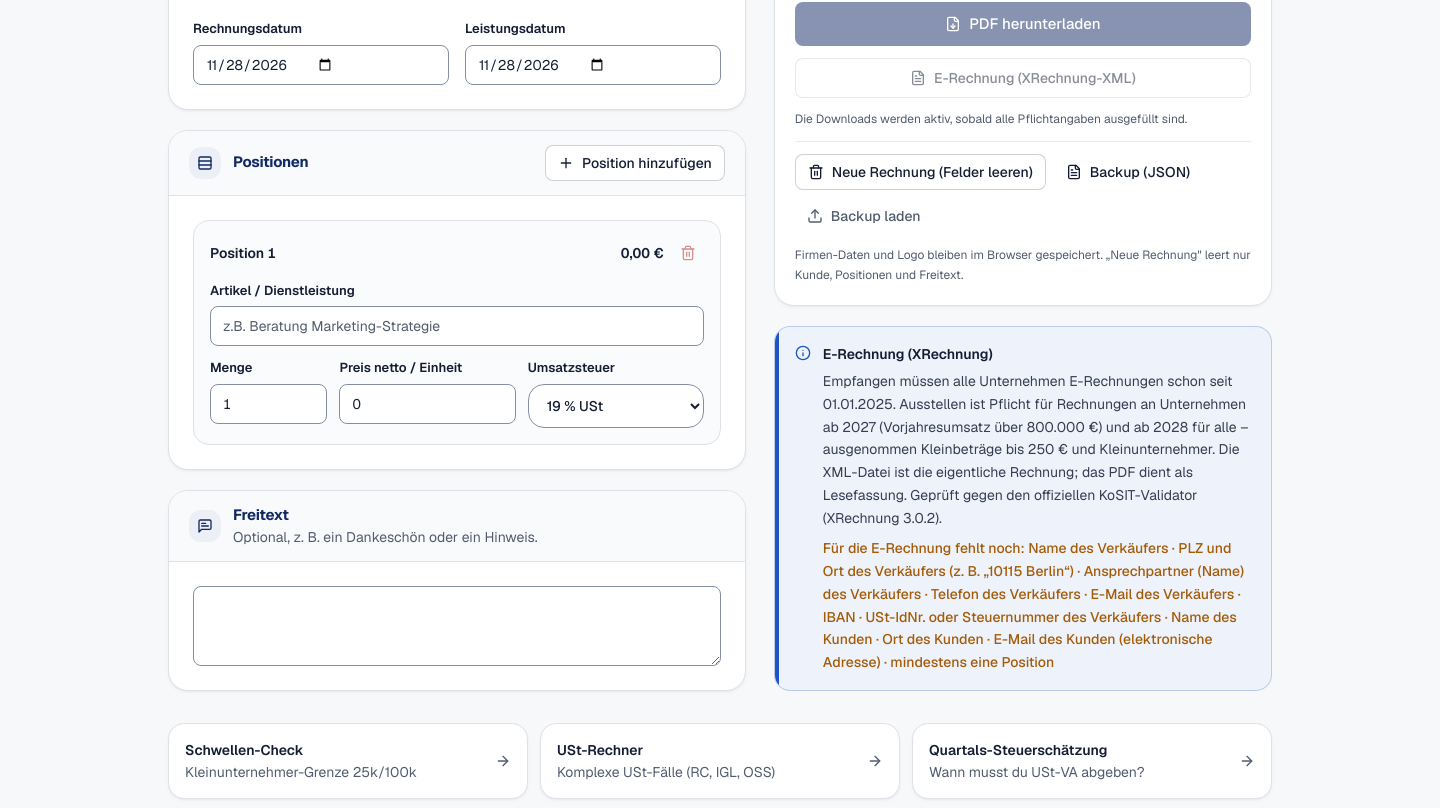
Scenario: RechnungsGenerator — Positionen › Mengen-Änderung passt Summe an
(page scrolled)
// Default: Menge 1, Preis 0 → ändere zu 10 × 120
Replace the text in the number field with placeholder "Menge" with "10" at (269, 404), box [210,384,328,424]
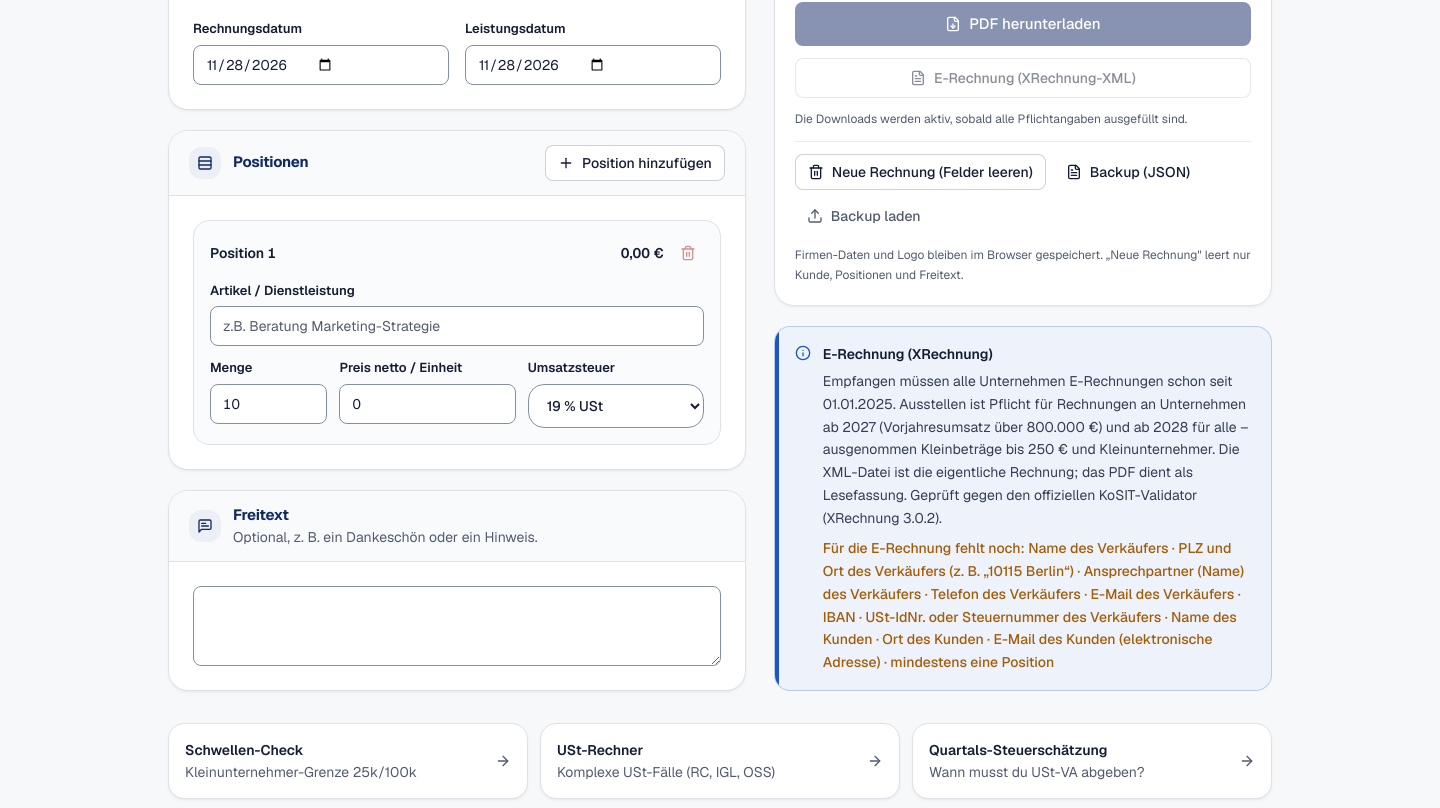
Replace the text in the number field labelled "Preis netto / Einheit" with "120" at (428, 404), box [340,384,516,424]
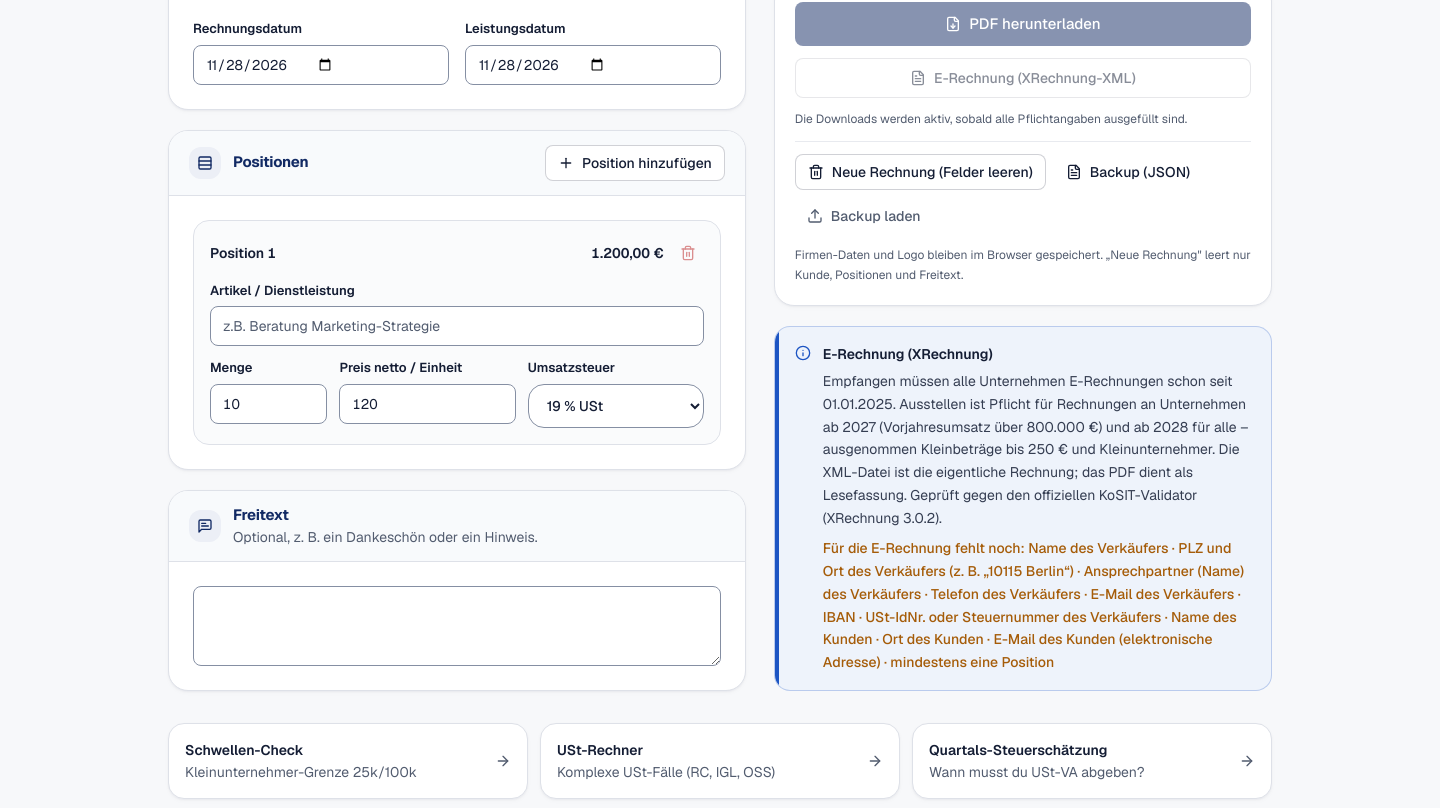
expect the text "1.200,00 €" is shown: met, box [591,243,664,263]
